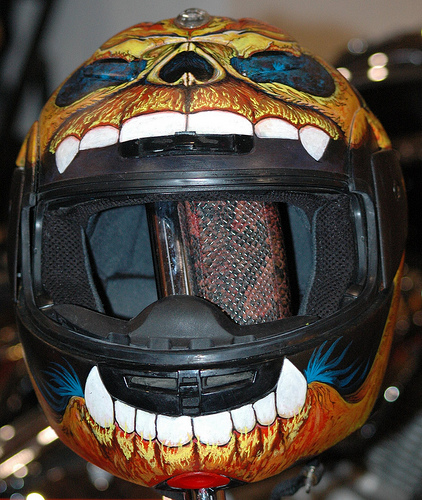helmet: (13, 27, 393, 467)
